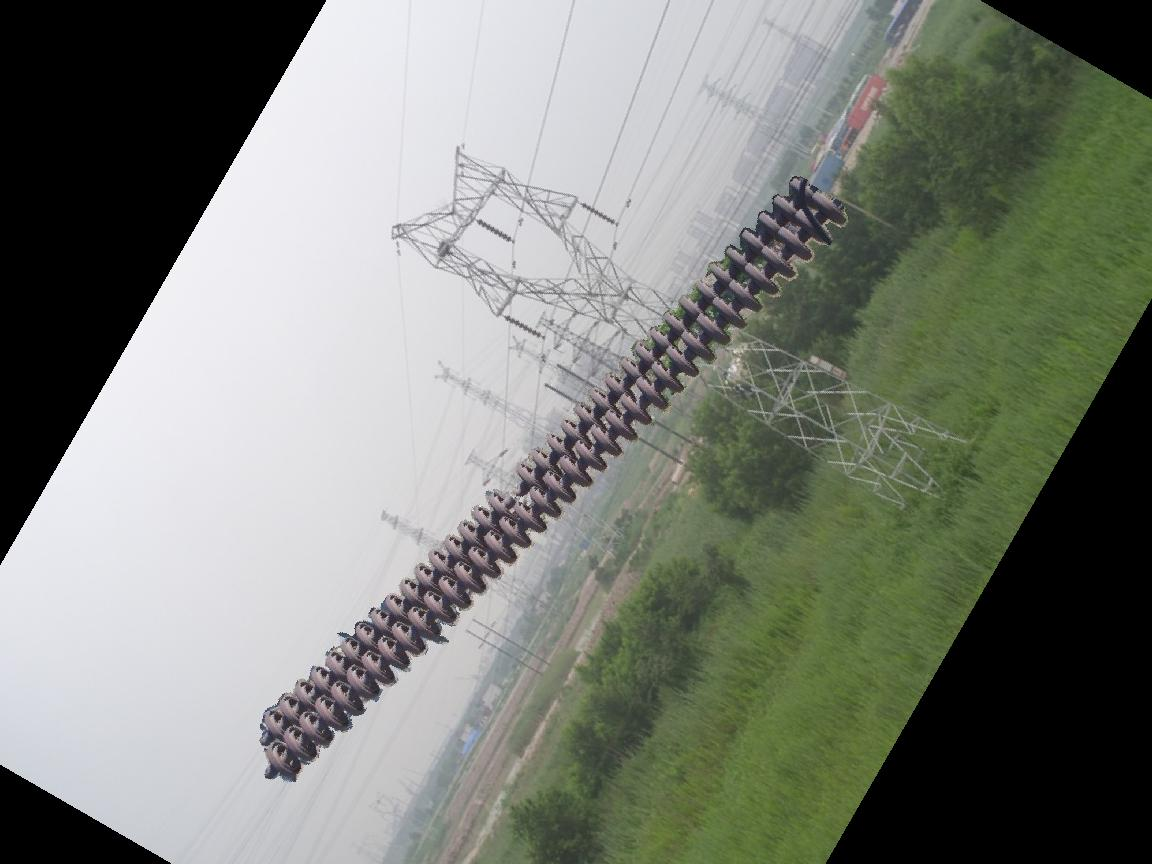insulator: (252, 171, 852, 788), (499, 311, 544, 340), (474, 215, 514, 244), (578, 200, 615, 226)
insulator_stringdrop: (479, 461, 542, 517)
